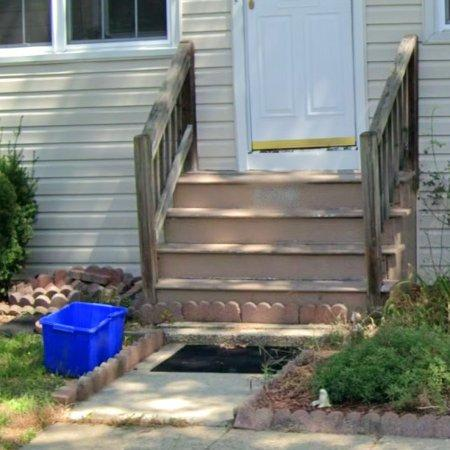stairs: (158, 172, 368, 310)
